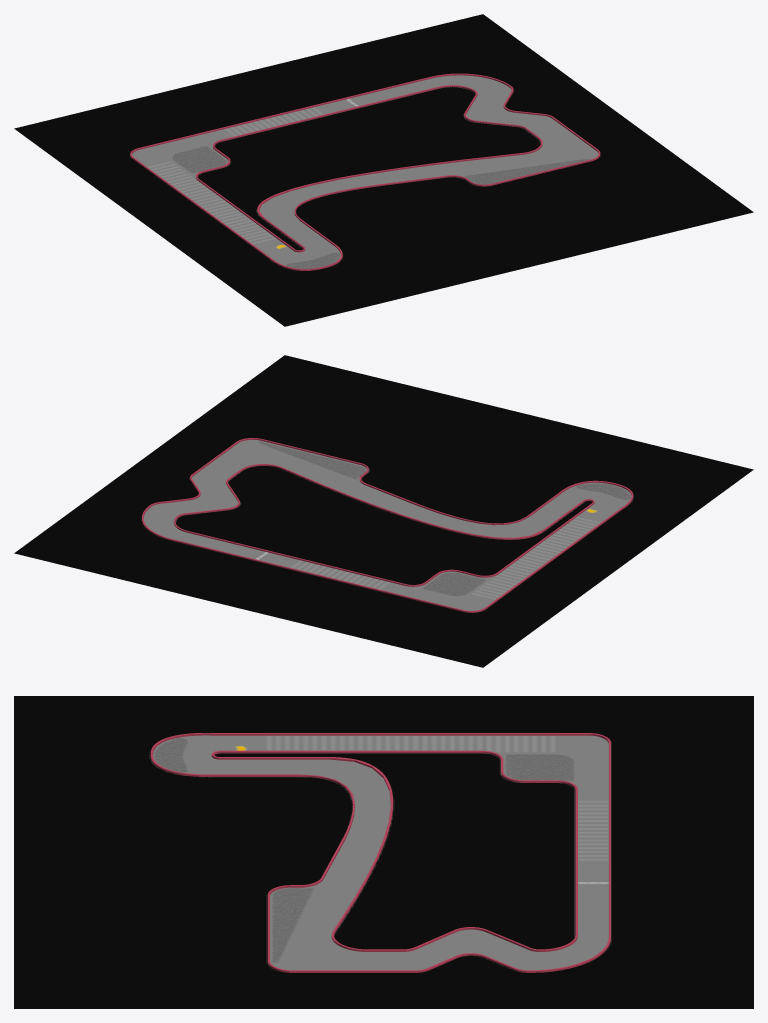
Rendered from track1.glb.
3 views of the same model, one above another, from view 1: azimuth 30°, elevation 25°; view 2: azimuth 150°, elevation 25°; view 3: azimuth 270°, elevation 25° (orthographic). The views are drawn at different scales.
Visible parts, largest first — view 1: Plane.001, Curve; view 2: Plane.001, Curve; view 3: Plane.001, Curve.
Boxes of the visible parts, box(x1,y1,x2,y2) form: Plane.001: box(14, 14, 753, 326); Curve: box(130, 73, 600, 270); Plane.001: box(14, 355, 753, 667); Curve: box(142, 438, 633, 612); Plane.001: box(14, 696, 753, 1008); Curve: box(150, 733, 610, 972).
Size of what is drawn, in the model's own units: 40 by 0.1 by 40.
2 materials, 1 textured.
